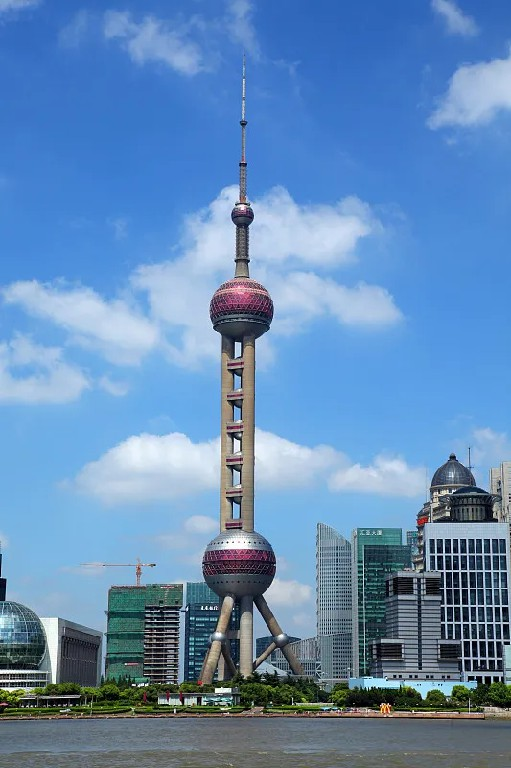Oriental: (202, 55, 303, 683)
